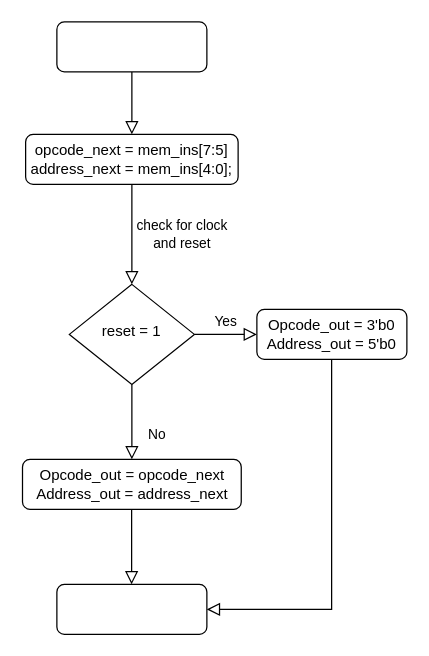
This 429x656 diagram has some shape labels left out. Each missing label, with the centre of its shape:
Done: (131,608)
Start: (131,46)
